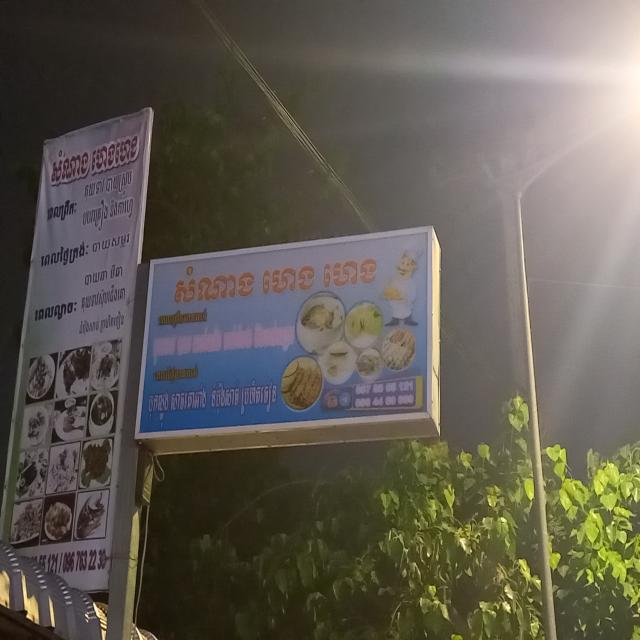1: (171, 247, 379, 303), (51, 131, 141, 186), (82, 196, 136, 233), (83, 168, 135, 204), (77, 307, 125, 338), (83, 259, 127, 288)
3: (145, 376, 283, 429)
566: (46, 545, 108, 576)
Yolov11_80vkh: (80, 280, 129, 315), (41, 237, 88, 271), (32, 295, 76, 326), (157, 306, 213, 329), (152, 362, 202, 385), (91, 229, 132, 257), (44, 197, 77, 222)
